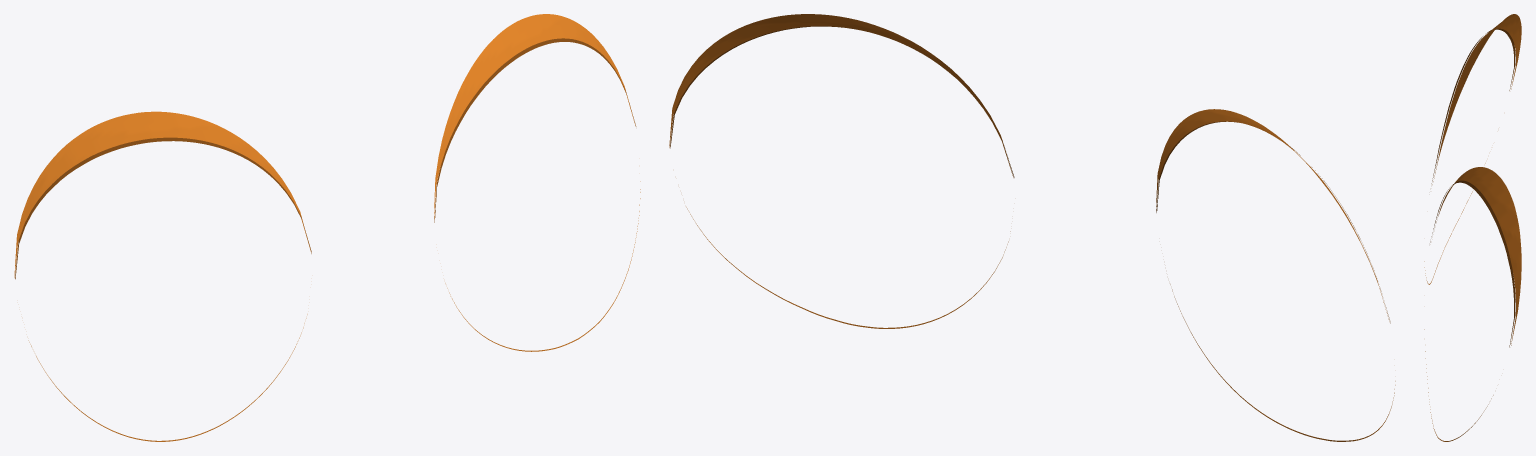
File: yeti-eyelids-v3.glb
3 renders of one model, left to right at view 1: azimuth 30°, elevation 25°; view 2: azimuth 150°, elevation 25°; view 3: azimuth 270°, elevation 25°, orthographic. The views are drawn at different scales.
Parts seen in each view (by area): view 1: Paupieres_Sculptees; view 2: Paupieres_Sculptees; view 3: Paupieres_Sculptees.
Boxes of the visible parts, box(x1,y1,x2,y2) form: Paupieres_Sculptees: box(14, 14, 640, 441); Paupieres_Sculptees: box(669, 14, 1395, 441); Paupieres_Sculptees: box(1424, 14, 1521, 441).
Size of the model in its own units: 0.4793 by 0.22 by 0.077.
